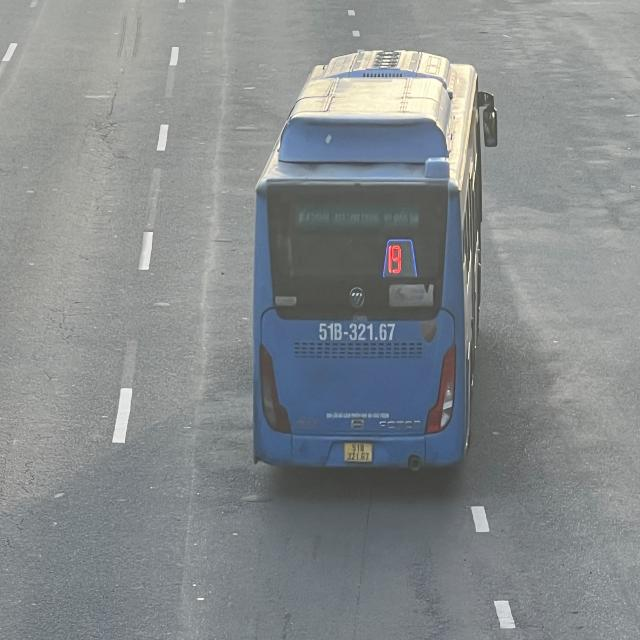coach: (251, 45, 502, 477)
